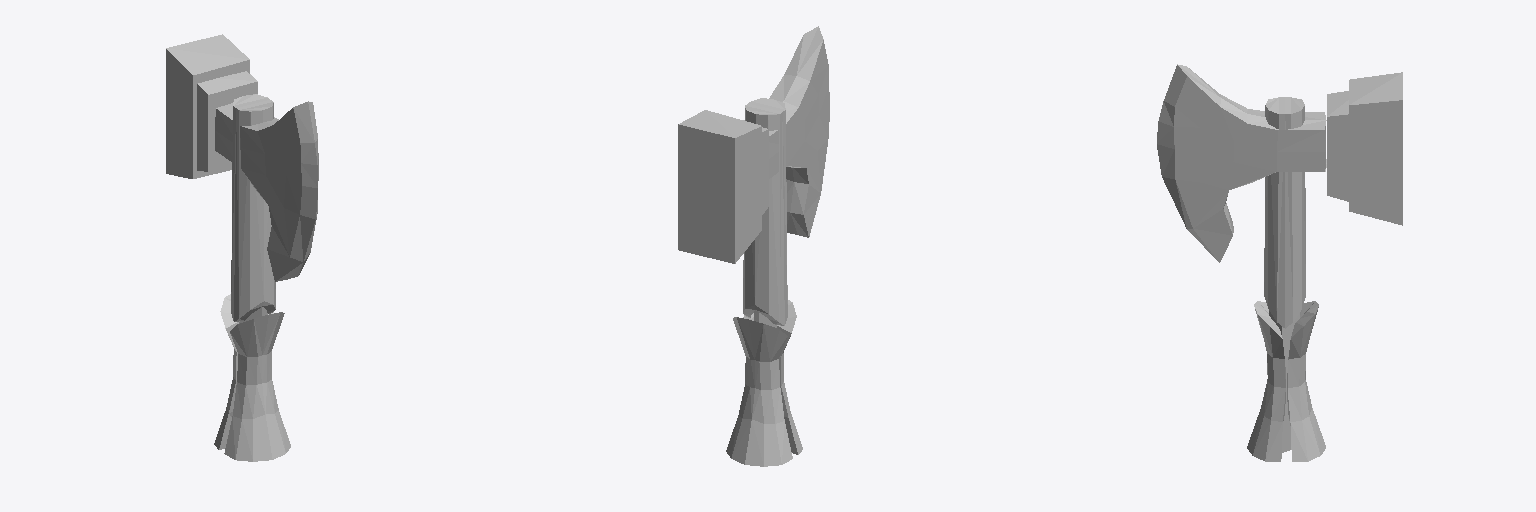
Rendered from Axe_UVs_done.obj.
The picture shows the model from 3 angles: view 1: azimuth 30°, elevation 25°; view 2: azimuth 150°, elevation 25°; view 3: azimuth 270°, elevation 25°; orthographic projection.
Parts seen in each view (by area): view 1: Object001; view 2: Object001; view 3: Object001.
Part boxes in pixels (left/top/right/bottom): Object001: left=166, top=34, right=318, bottom=461; Object001: left=678, top=26, right=829, bottom=466; Object001: left=1157, top=64, right=1402, bottom=461.
Size of the model in its own units: 4.63 by 27.4 by 15.96.